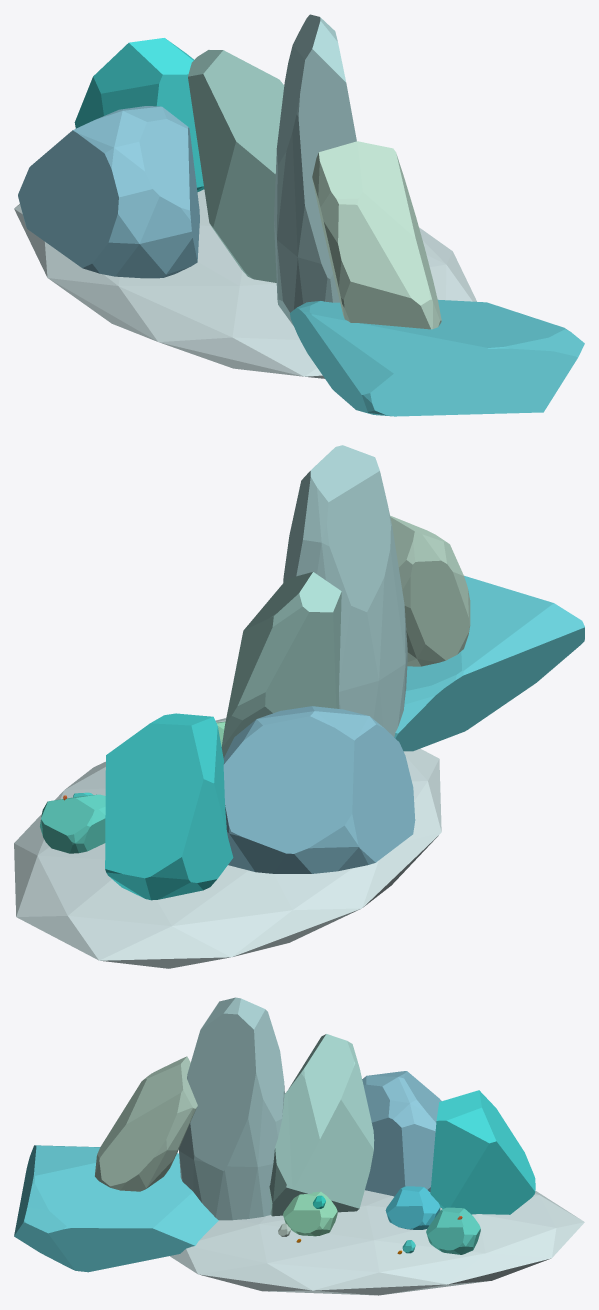
The model's file is rockwall2.fbx.
3 views of the same model, one above another, from view 1: azimuth 30°, elevation 25°; view 2: azimuth 150°, elevation 25°; view 3: azimuth 270°, elevation 25° (orthographic). The views are drawn at different scales.
Parts seen in each view (by area): view 1: Icosphere.006, Icosphere.001, Icosphere.002, Icosphere.011, Icosphere.004, Icosphere, Icosphere.003; view 2: Icosphere.002, Icosphere.001, Icosphere, Icosphere.003, Icosphere.006, Icosphere.004, Icosphere.011, Icosphere.010; view 3: Icosphere.002, Icosphere, Icosphere.006, Icosphere.004, Icosphere.003, Icosphere.011, Icosphere.001, Icosphere.010, Icosphere.005, Icosphere.009.
Boxes of the visible parts, x1,y1,x2,y2 form: Icosphere.006: [290, 299, 584, 416]; Icosphere.001: [18, 106, 199, 278]; Icosphere.002: [14, 189, 476, 378]; Icosphere.011: [312, 141, 441, 329]; Icosphere.004: [188, 50, 284, 282]; Icosphere: [274, 14, 356, 325]; Icosphere.003: [74, 38, 204, 192]; Icosphere.002: [14, 718, 441, 968]; Icosphere.001: [223, 706, 415, 873]; Icosphere: [283, 445, 407, 736]; Icosphere.003: [105, 713, 233, 900]; Icosphere.006: [394, 575, 584, 751]; Icosphere.004: [221, 572, 341, 757]; Icosphere.011: [390, 515, 470, 666]; Icosphere.010: [40, 794, 105, 853]; Icosphere.002: [170, 1190, 584, 1295]; Icosphere: [179, 997, 284, 1220]; Icosphere.006: [14, 1145, 218, 1272]; Icosphere.004: [269, 1034, 374, 1216]; Icosphere.003: [430, 1090, 535, 1214]; Icosphere.011: [95, 1056, 197, 1191]; Icosphere.001: [362, 1071, 441, 1196]; Icosphere.010: [426, 1207, 480, 1254]; Icosphere.005: [385, 1186, 440, 1229]; Icosphere.009: [283, 1191, 337, 1236].
Size of the model in its own units: 1335 by 1288 by 2623.
